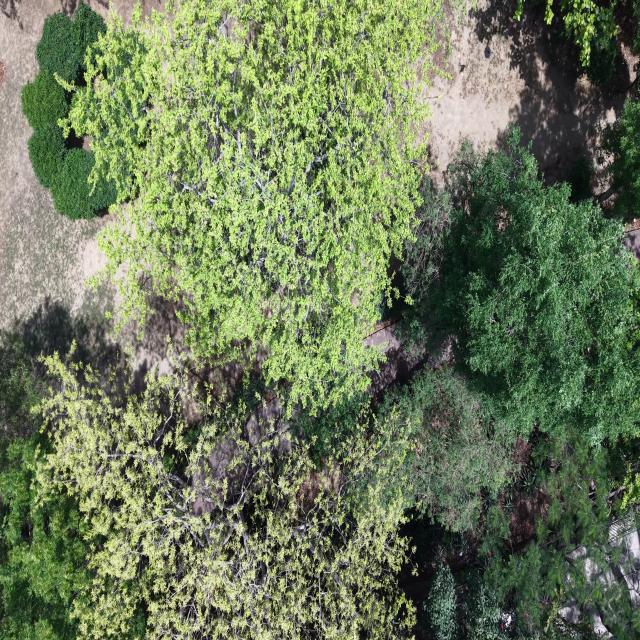DRY_AREA: (424, 2, 637, 183), (0, 0, 114, 335), (0, 0, 114, 328), (0, 0, 114, 327)
VEGETATION_TREE: (0, 0, 639, 639), (69, 0, 443, 410), (0, 357, 456, 638), (405, 131, 638, 637), (38, 356, 414, 638), (389, 370, 638, 638), (436, 129, 638, 443), (421, 434, 639, 639), (479, 434, 639, 639), (0, 332, 90, 639), (379, 366, 513, 531), (22, 2, 116, 219), (0, 433, 91, 639), (401, 179, 452, 341), (542, 0, 639, 85), (424, 563, 508, 639), (292, 393, 371, 468), (545, 0, 617, 82), (36, 0, 105, 82), (600, 99, 639, 219), (51, 149, 115, 219), (562, 0, 617, 79), (0, 332, 39, 436), (36, 11, 84, 81), (462, 572, 505, 639), (22, 70, 68, 130), (426, 565, 459, 639), (28, 124, 66, 188), (72, 0, 105, 70), (587, 30, 617, 85), (569, 155, 595, 202), (632, 0, 639, 24)
